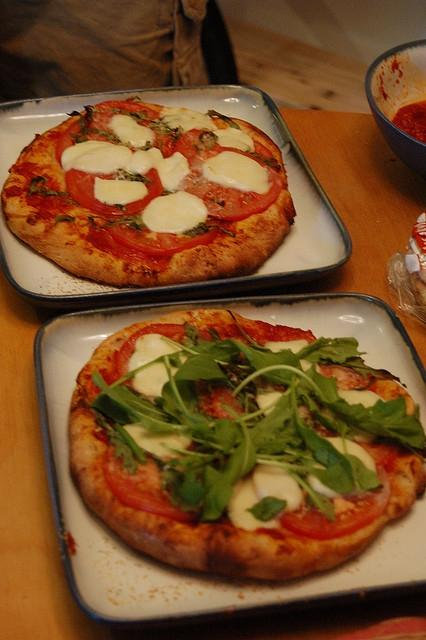tomato: (278, 440, 390, 540), (100, 442, 200, 522), (203, 142, 283, 220), (65, 167, 164, 222), (100, 219, 220, 255), (116, 322, 189, 377), (195, 380, 245, 420), (318, 362, 373, 390), (268, 324, 317, 344), (88, 112, 115, 134)
